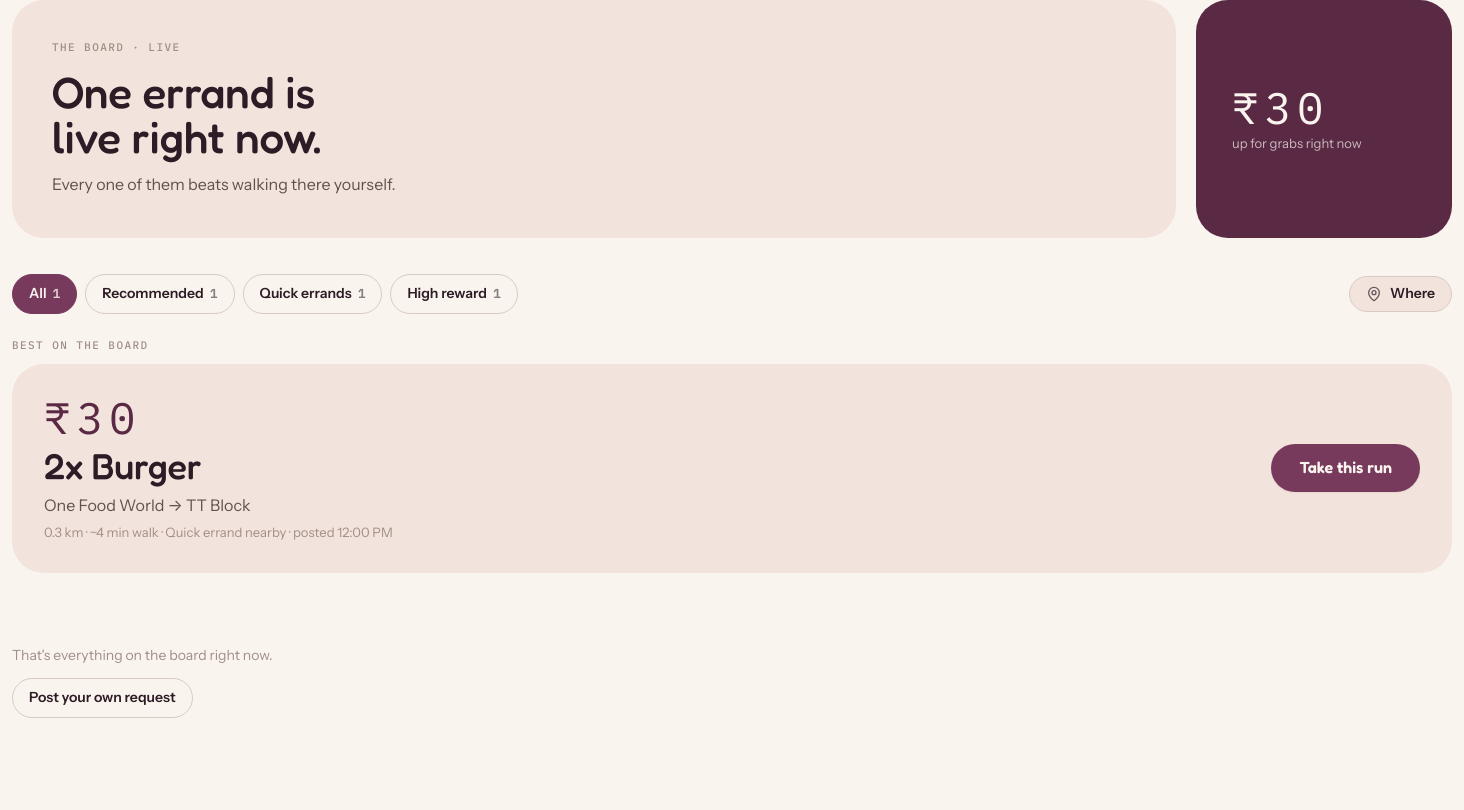
Home — 3F Recommended › never claims proximity or an opaque match score in the Recommended view
Click the button "Recommended1" at (160, 294), box [85,274,235,314]
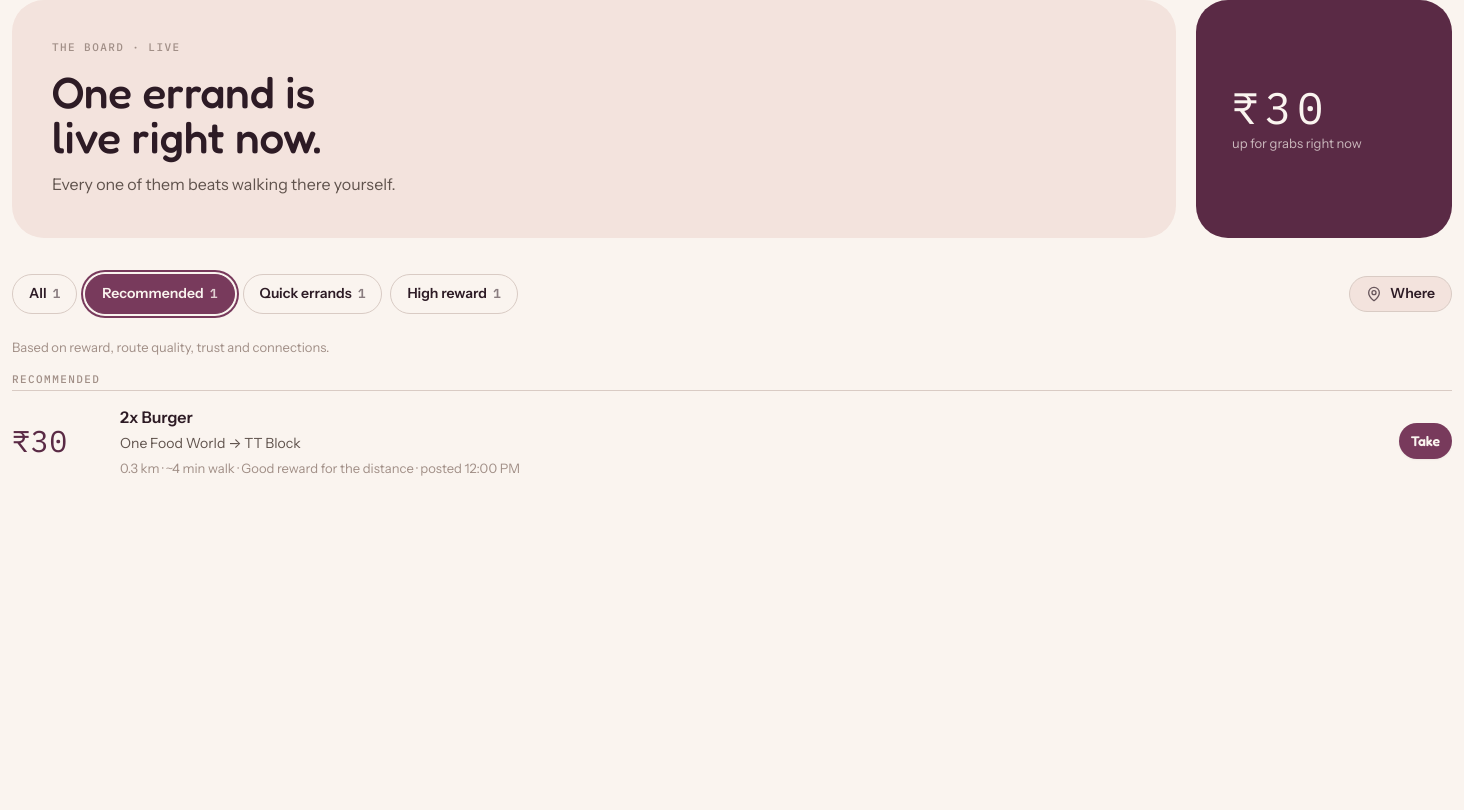
Expected: the text "Based on reward, route quality, trust and connections." is shown, [12,339,329,355]
